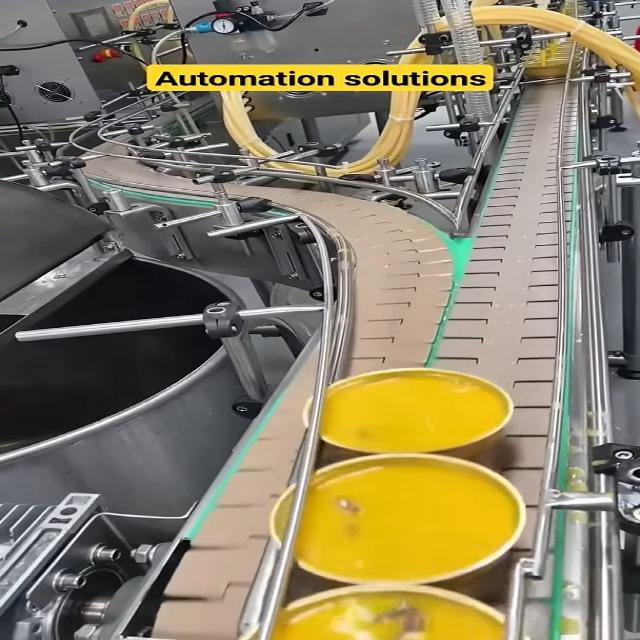cup: (222, 453, 586, 594), (292, 362, 531, 461)
